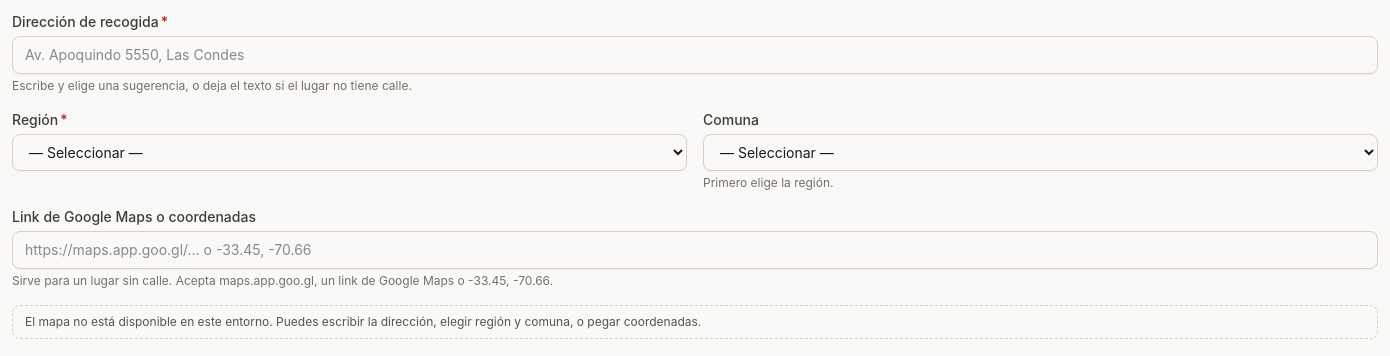
Scenario: SelectorLugar › avisa si las coordenadas usan coma decimal
The width and height of the screenshot is (1390, 356).
Type "-33,45, -70,66" into the field labelled "Link de Google Maps o coordenadas" at (695,250), box x1=12 y1=231 x2=1378 y2=269
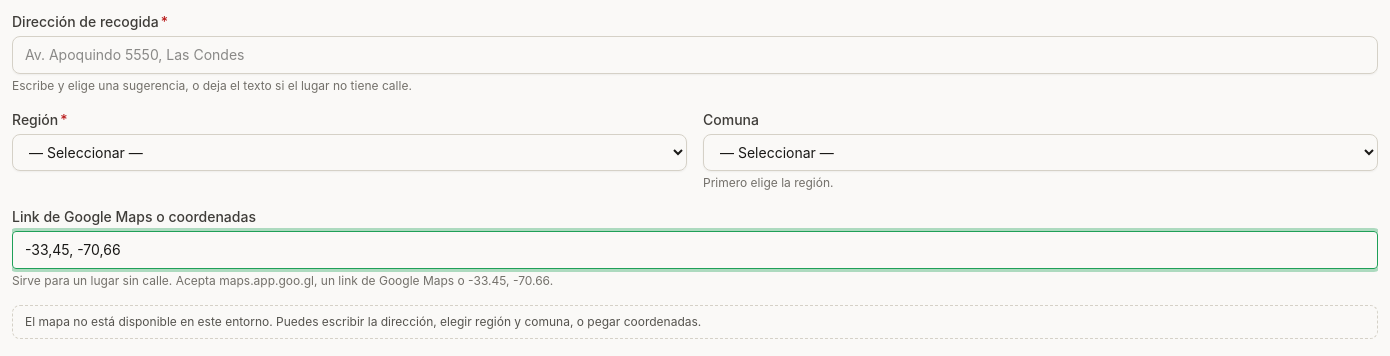
Press Tab
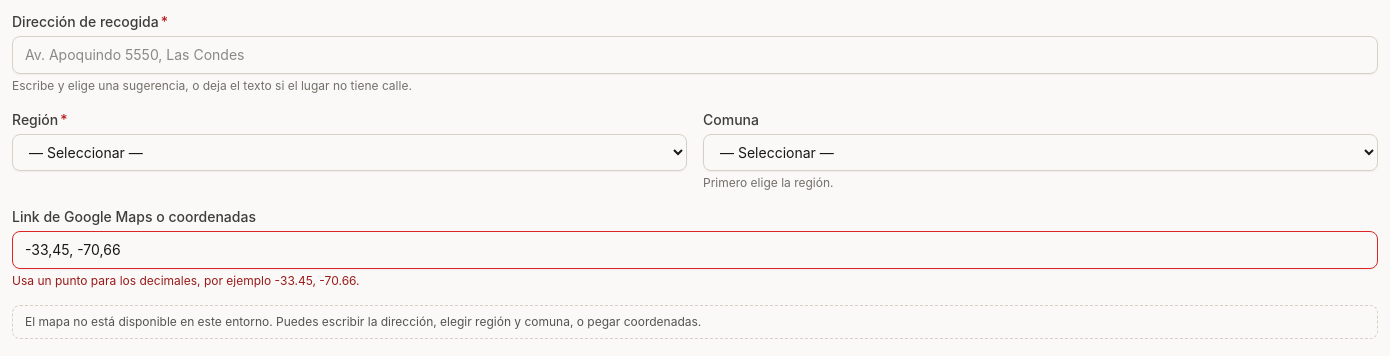
Now the text "Usa un punto para los decimales, por ejemplo -33.45, -70.66." is shown, box x1=12 y1=273 x2=360 y2=288
